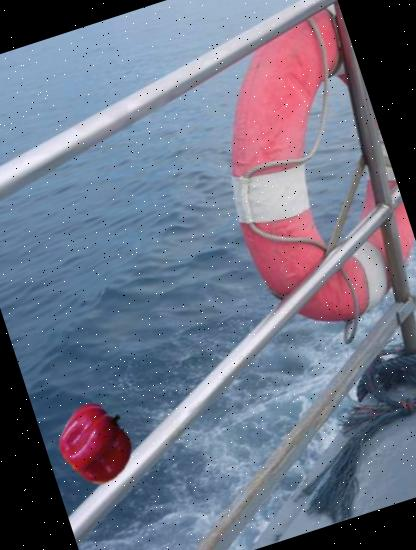Pepper: (46, 392, 148, 494)
